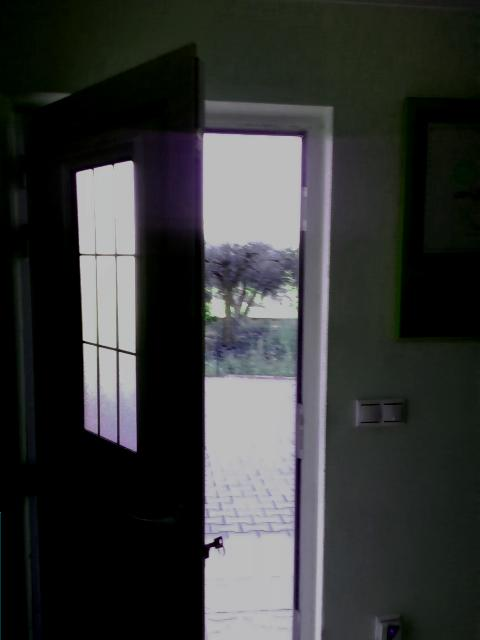semi_door: (10, 38, 333, 639)
